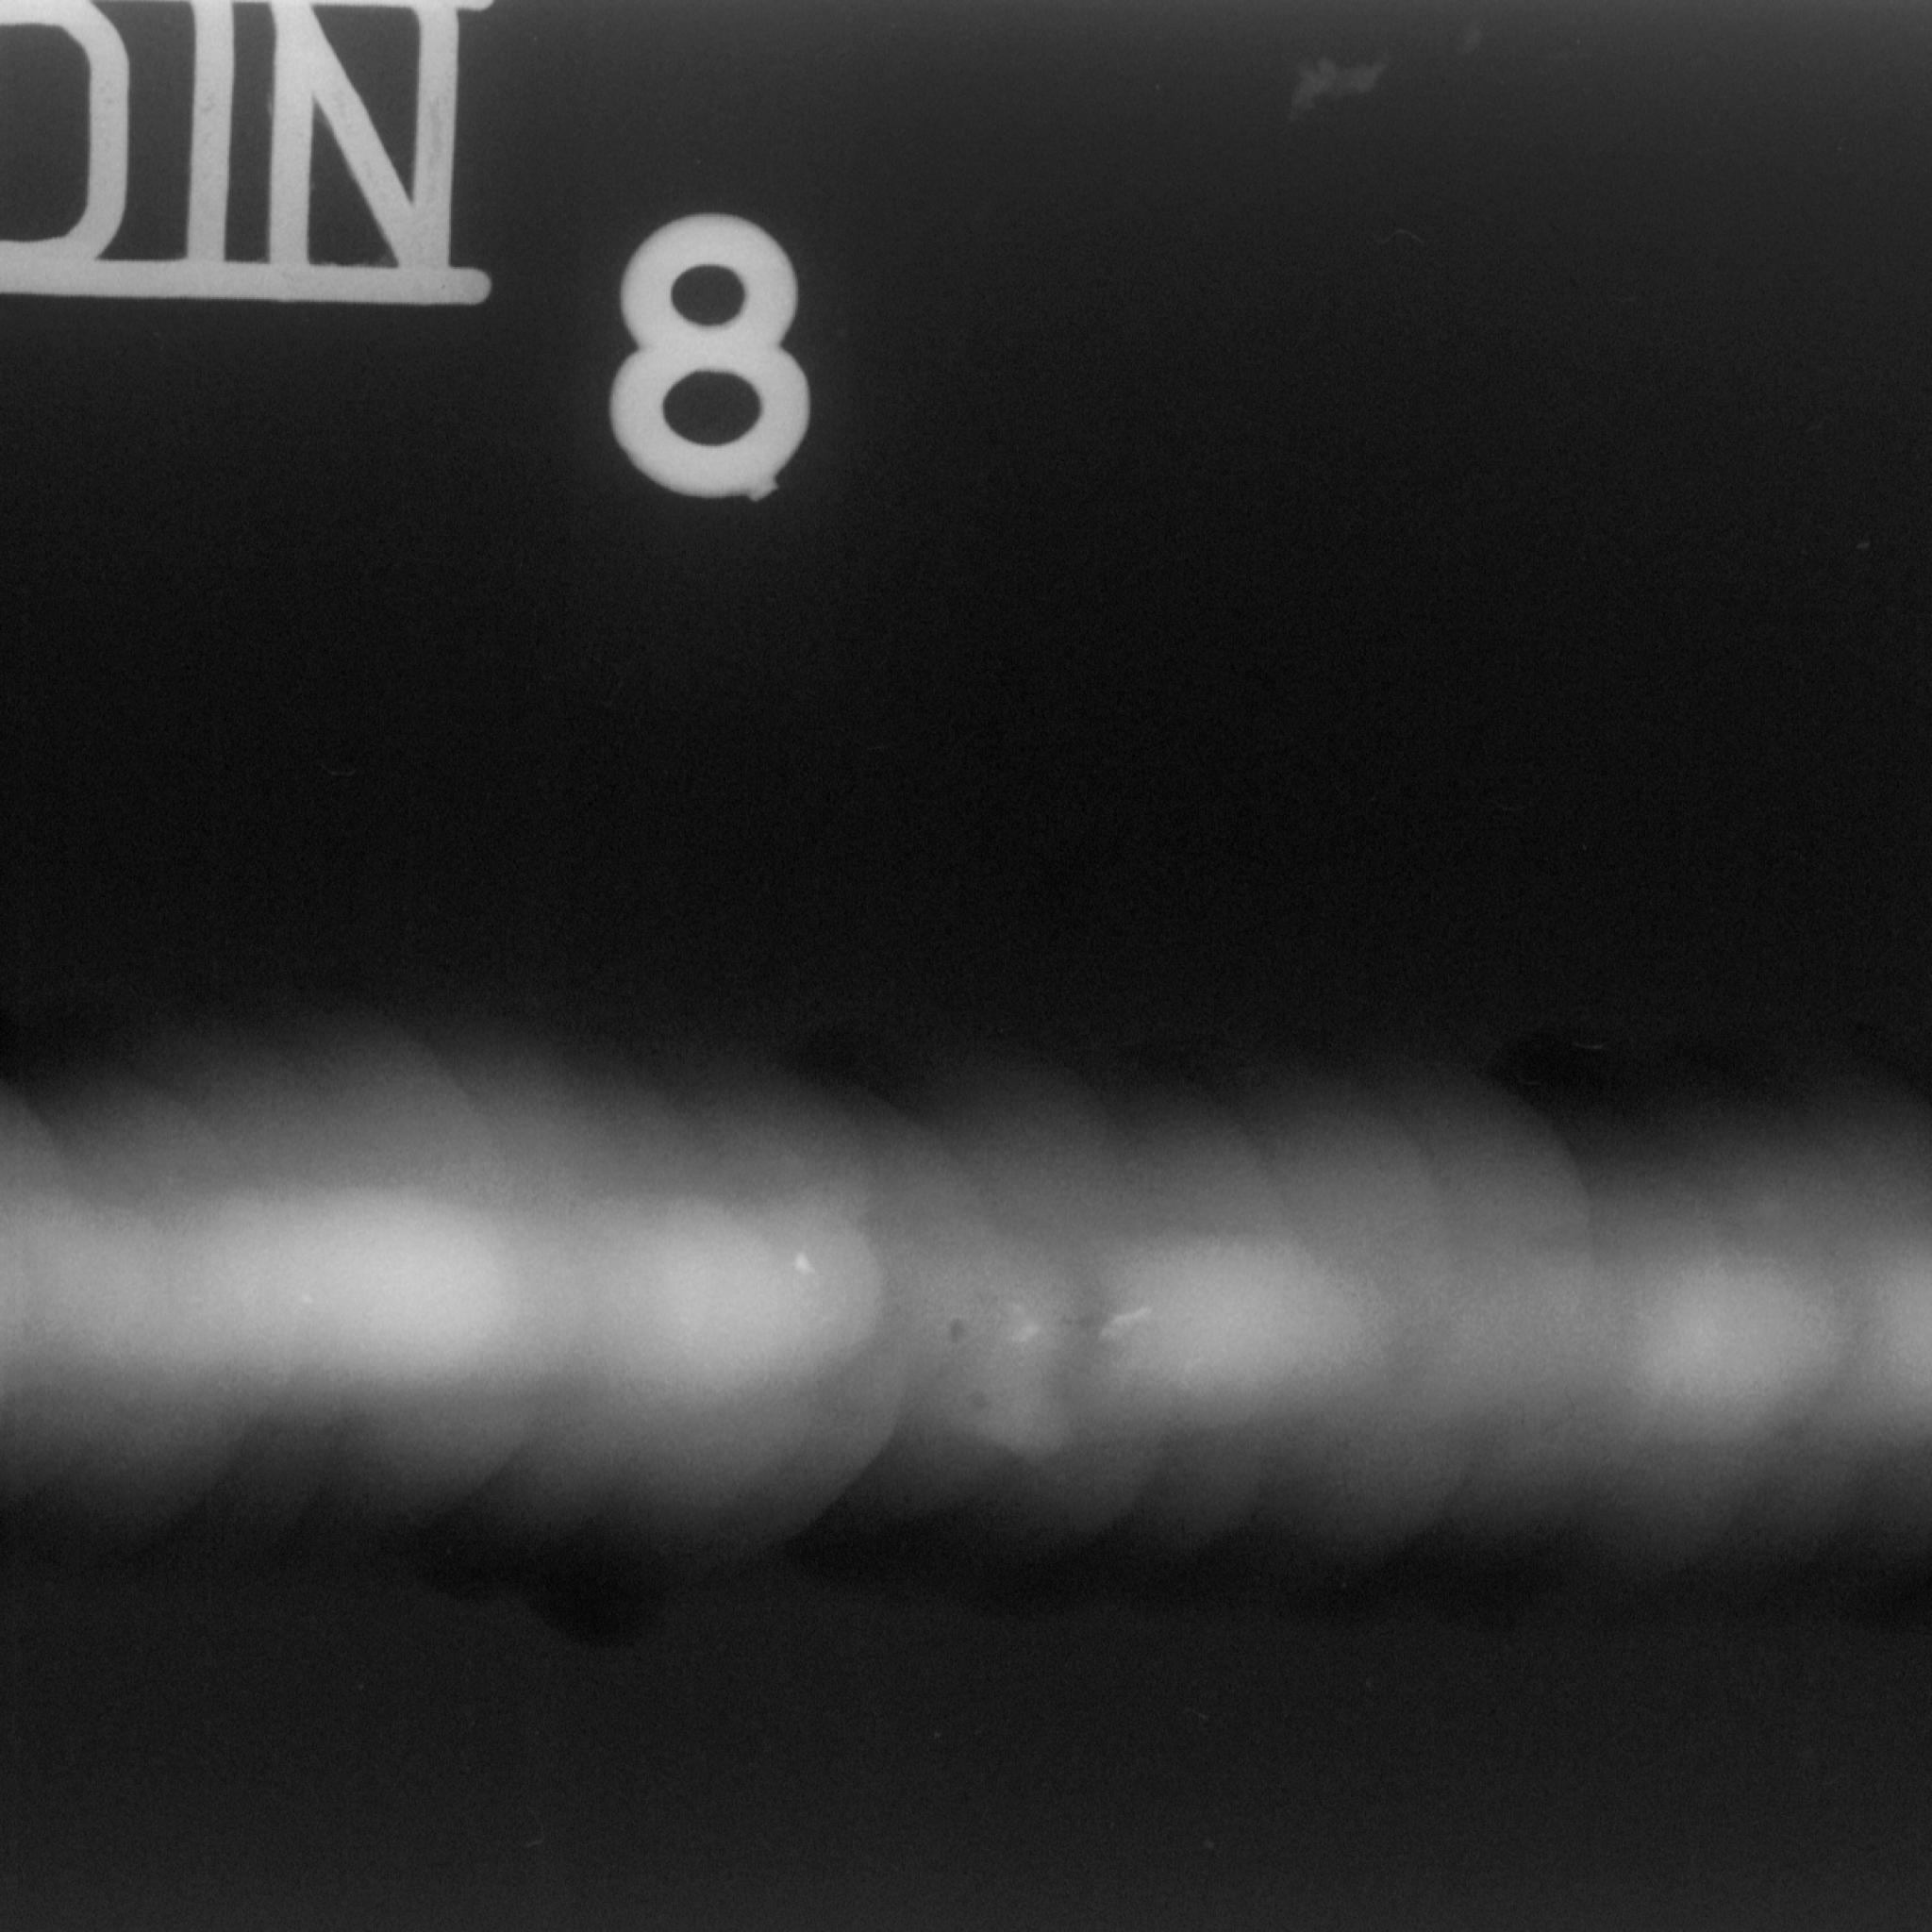FF: (0, 1022, 1932, 1553)
